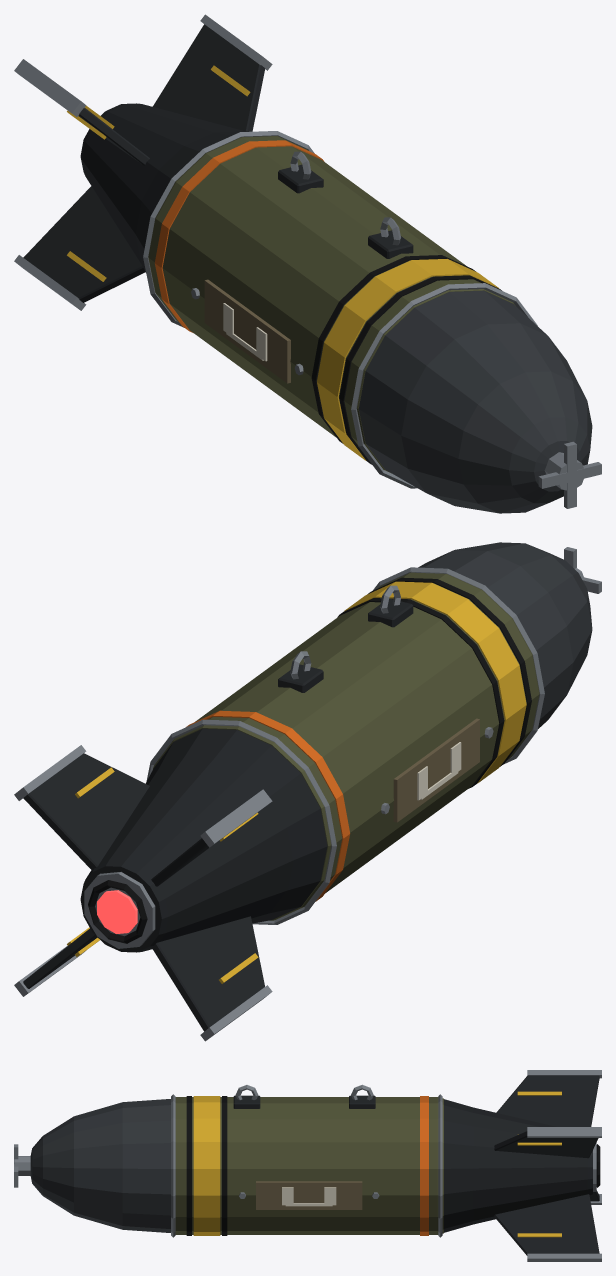
File: bomb_halfton.fbx
The picture shows the model from 3 angles, top to bottom: view 1: azimuth 30°, elevation 25°; view 2: azimuth 150°, elevation 25°; view 3: azimuth 270°, elevation 25°; orthographic projection. The views are drawn at different scales.
Parts seen in each view (by area): view 1: Body, Fins; view 2: Body, Fins, Light; view 3: Body, Fins.
Part boxes in pixels (<box>): Body: <box>80,103,601,513</box>; Fins: <box>14,14,272,310</box>; Body: <box>80,542,601,952</box>; Fins: <box>14,745,272,1041</box>; Light: <box>97,890,137,933</box>; Body: <box>14,1084,600,1237</box>; Fins: <box>494,1070,601,1261</box>.
Size of the model in its own units: 1.68 by 1.85 by 6.62.
3 materials, 2 textured.
